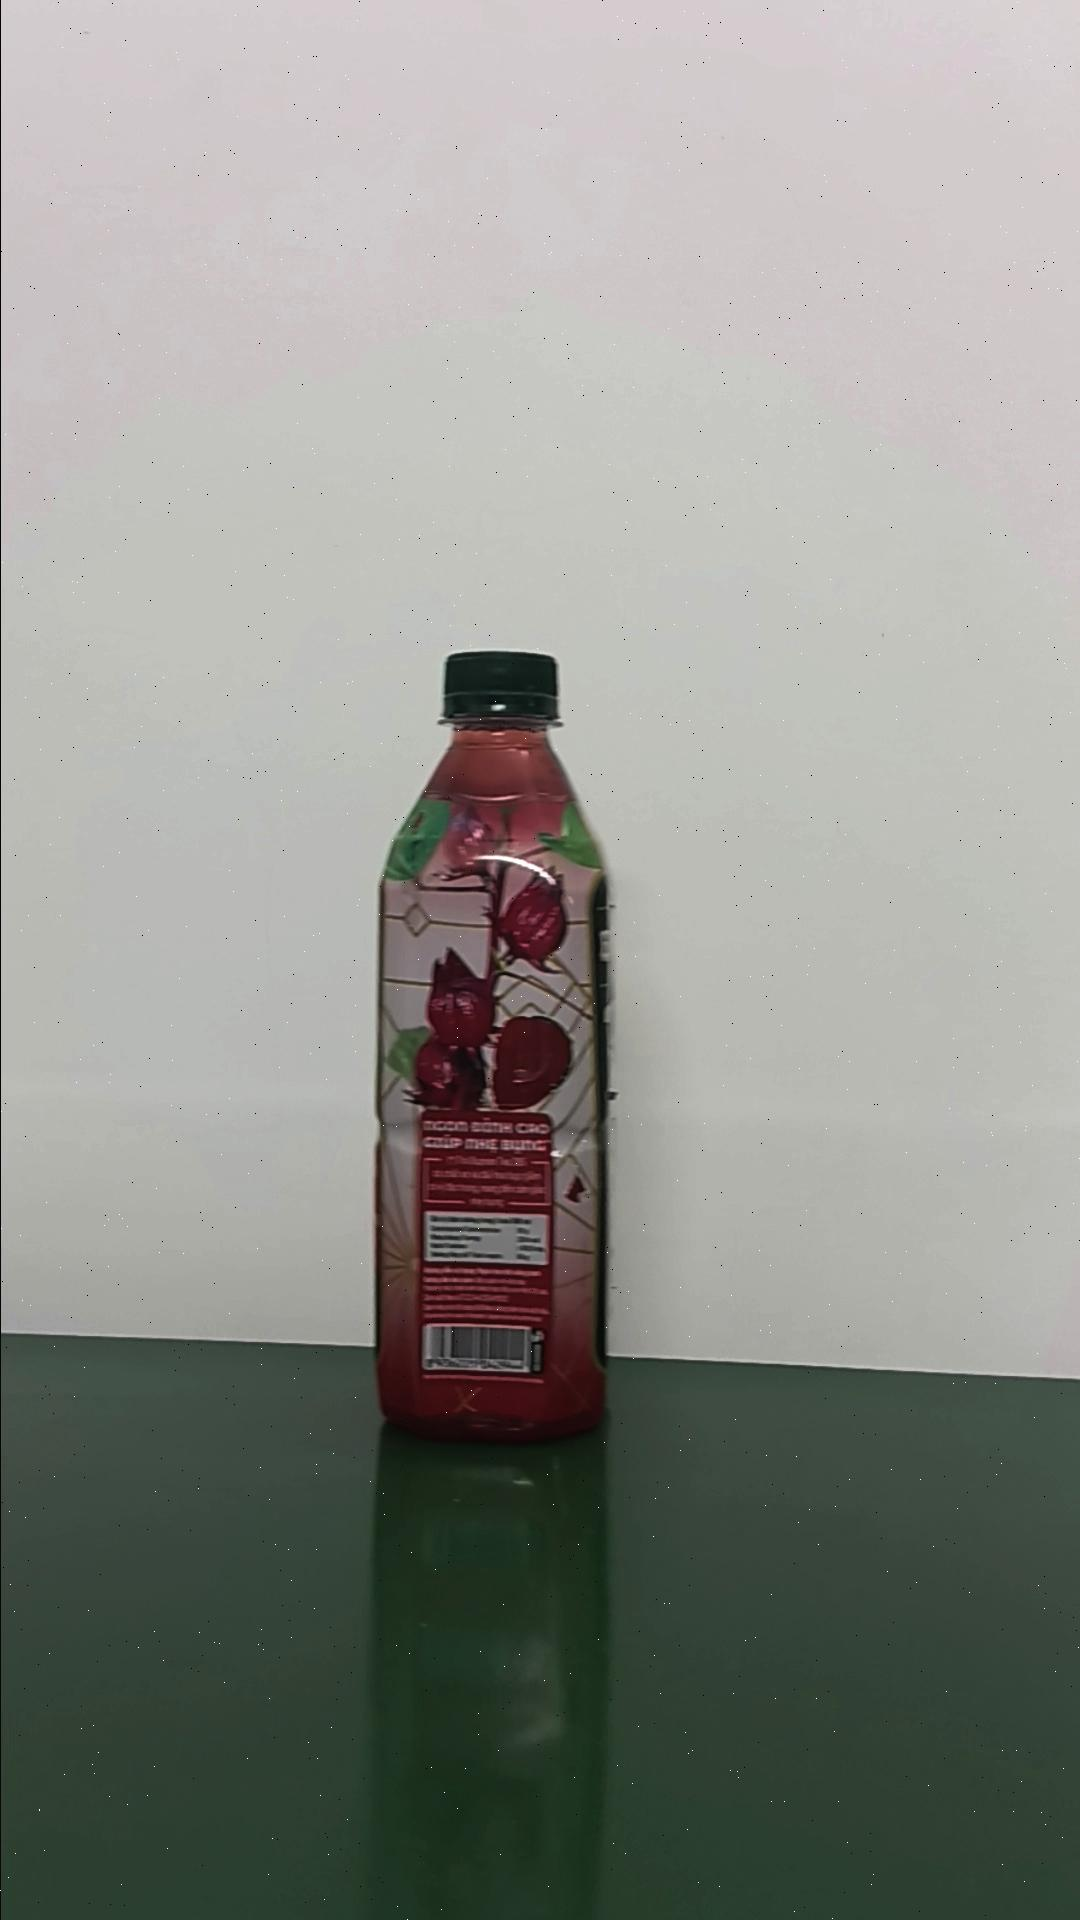loi rach va lap chai: (369, 646, 621, 1457)
